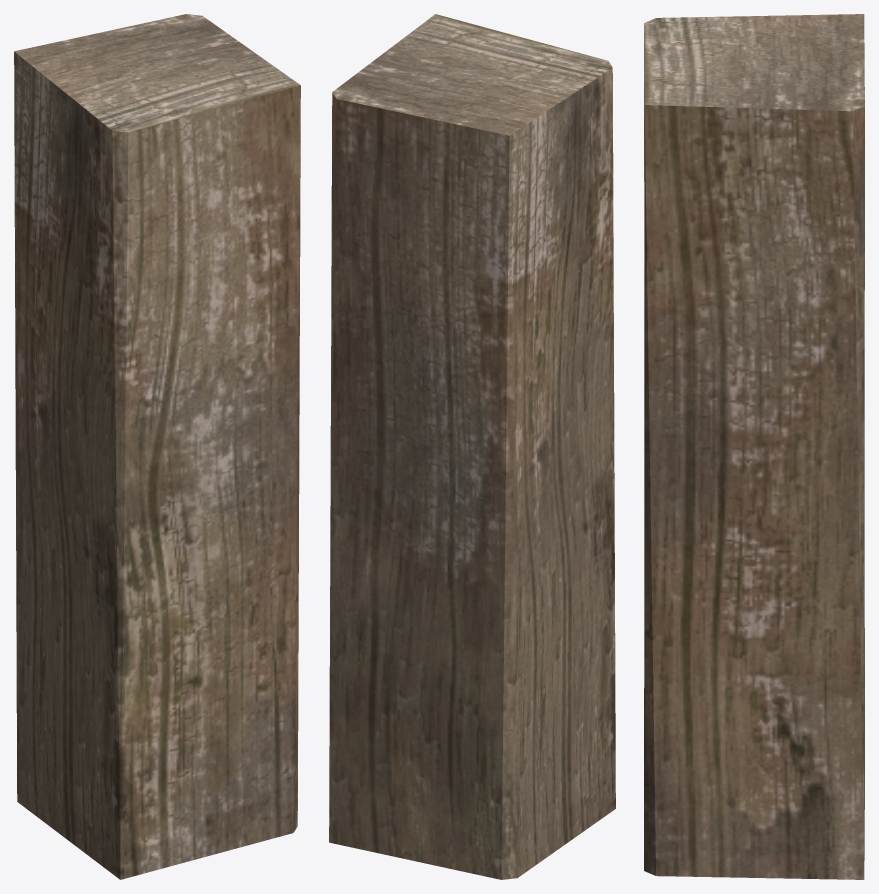
Rendered from SM_Beam_A_01.fbx.
The picture shows the model from 3 angles, left to right: view 1: azimuth 30°, elevation 25°; view 2: azimuth 150°, elevation 25°; view 3: azimuth 270°, elevation 25°; orthographic projection. The views are drawn at different scales.
Visible parts, largest first — view 1: SM_Beam_A_01; view 2: SM_Beam_A_01; view 3: SM_Beam_A_01.
Boxes of the visible parts, x1,y1,x2,y2 form: SM_Beam_A_01: [14, 14, 300, 879]; SM_Beam_A_01: [329, 14, 615, 879]; SM_Beam_A_01: [644, 14, 864, 879].
Size of the model in its own units: 26.18 by 26.18 by 101.
1 material, 1 textured.
